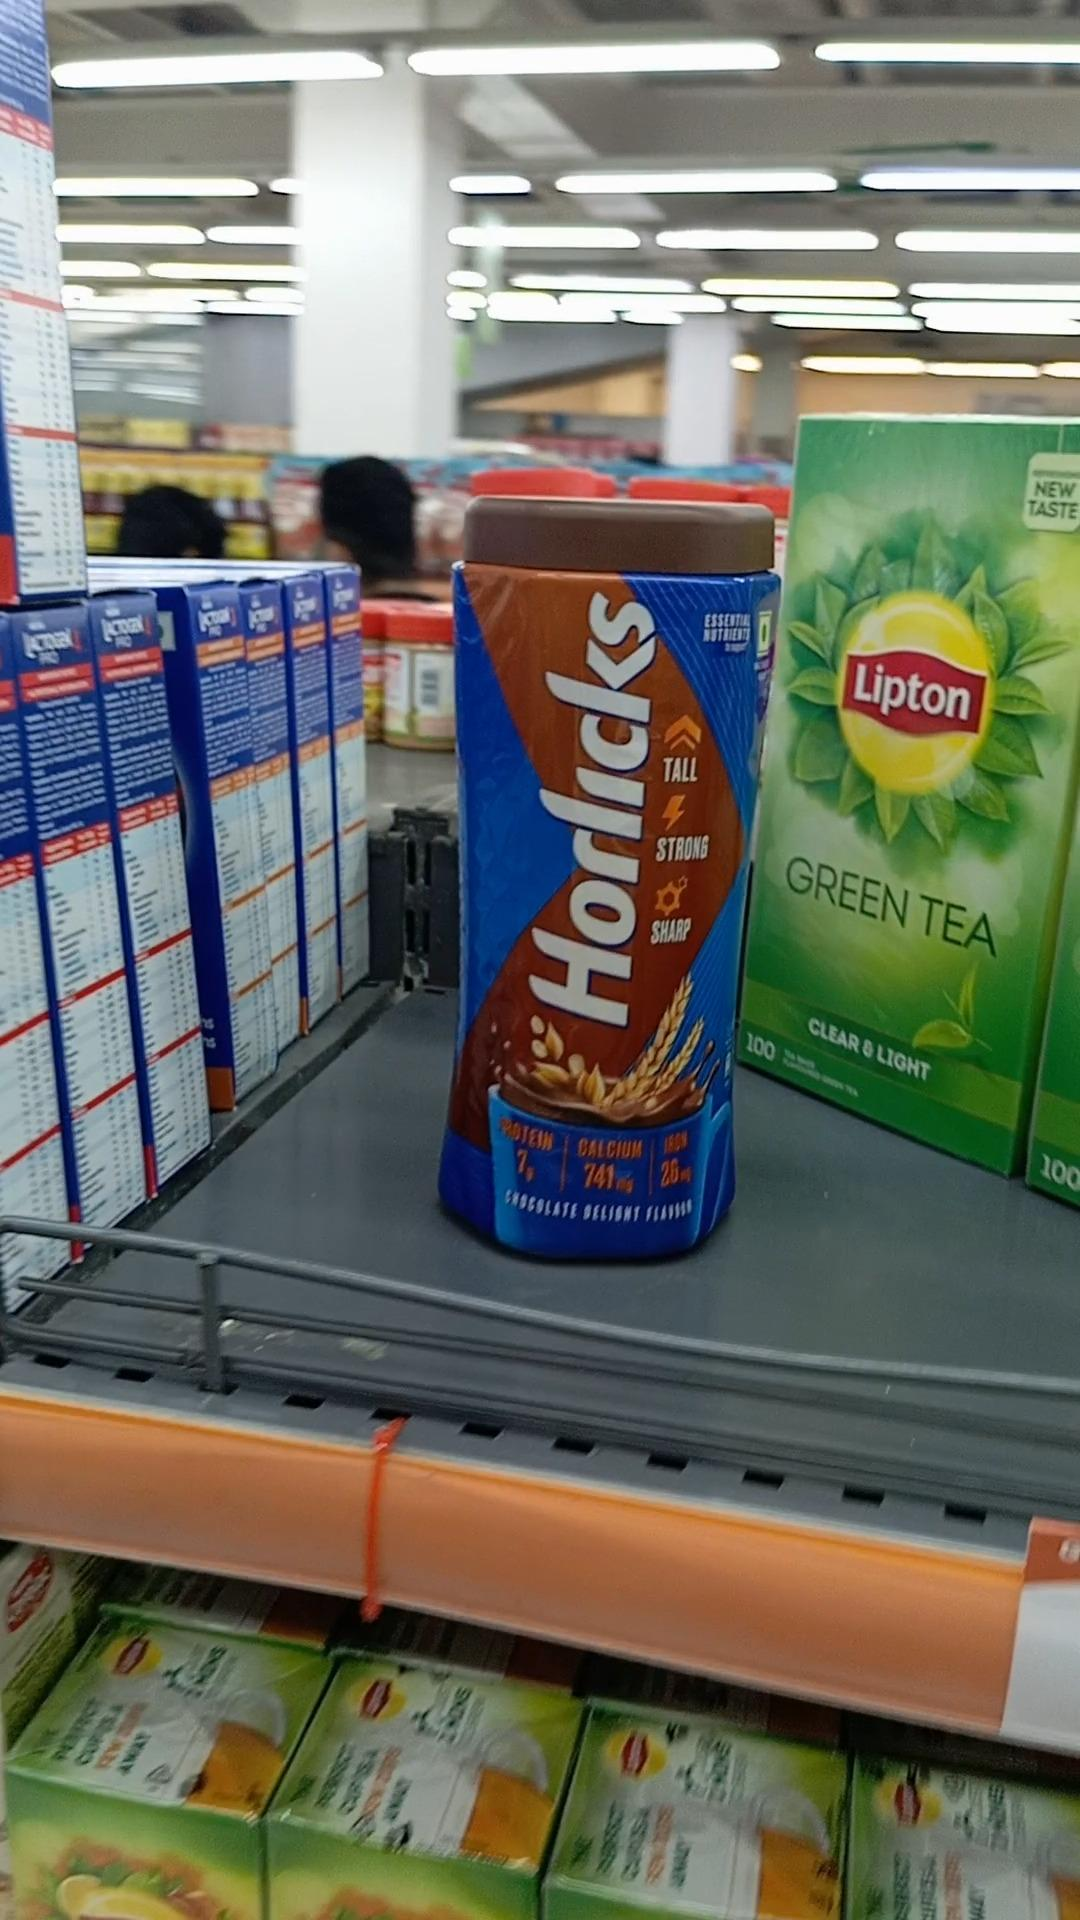HORLICK_CHOCOLATE_1_KG_JAR: (443, 500, 769, 1265)
